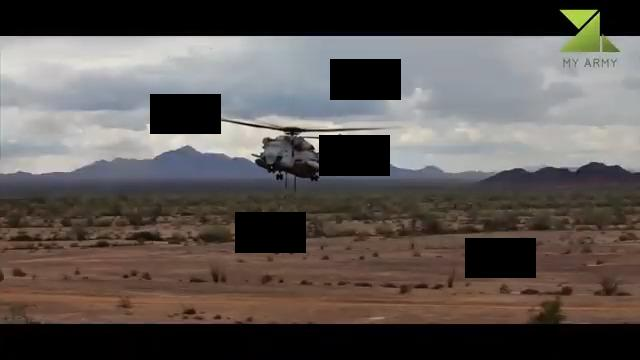MIL_HMMWV: (273, 230, 306, 256)
